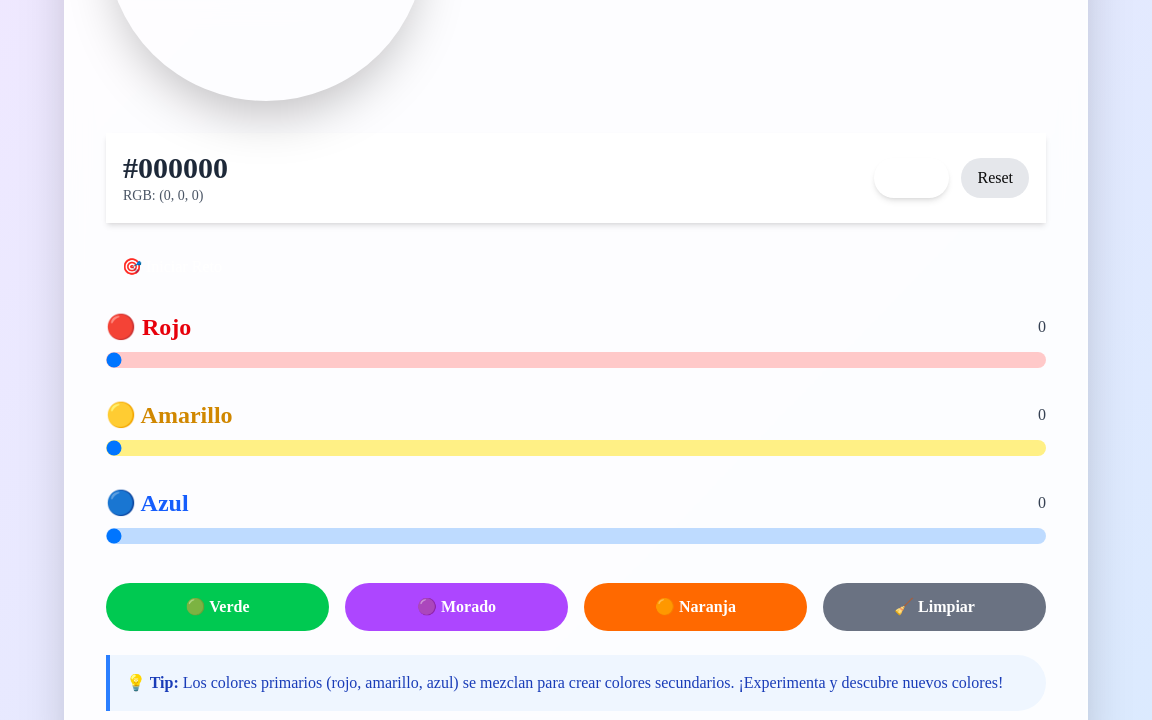
it: ColorMixer Component › debe actualizar código hexadecimal al cambiar colores
This screenshot has width=1152, height=720.
(page scrolled)
Set the slider with test id "red-slider" to "255" at (1038, 360), box [106,352,1046,368]
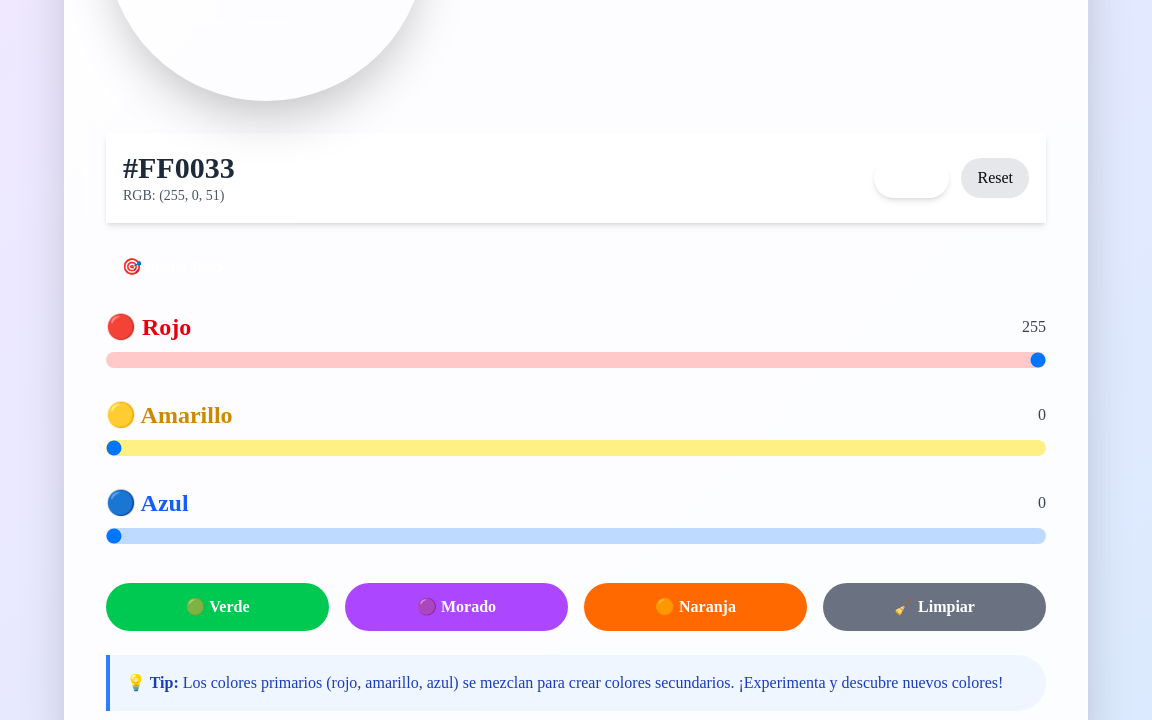
Now the text "#000000" is gone
